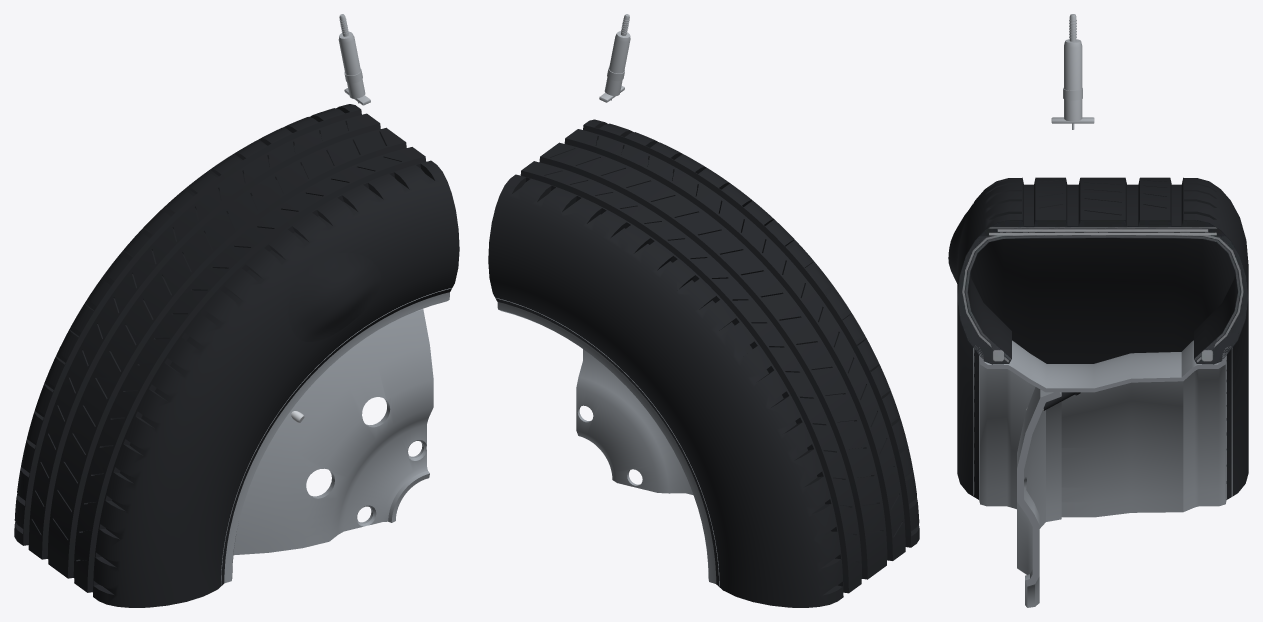
The model's file is tire-section-v1.glb.
3 renders of one model, left to right at view 1: azimuth 30°, elevation 25°; view 2: azimuth 150°, elevation 25°; view 3: azimuth 270°, elevation 25°, orthographic. The views are drawn at different scales.
Parts seen in each view (by area): view 1: TireSection, Wheel, Sidewall_Bulge, Gauge_Barrel; view 2: TireSection, Wheel, Gauge_Barrel; view 3: TireSection, Wheel, TireSection_CutFace, Gauge_Barrel, Sidewall_Bulge.
Part boxes in pixels (left/top/right/bottom): TireSection: left=14, top=104, right=459, bottom=607; Wheel: left=221, top=287, right=452, bottom=586; Sidewall_Bulge: left=288, top=252, right=381, bottom=341; Gauge_Barrel: left=338, top=31, right=370, bottom=105; TireSection: left=488, top=119, right=919, bottom=607; Wheel: left=495, top=297, right=719, bottom=586; Gauge_Barrel: left=599, top=31, right=630, bottom=102; TireSection: left=957, top=177, right=1248, bottom=499; Wheel: left=973, top=340, right=1232, bottom=607; TireSection_CutFace: left=957, top=220, right=1248, bottom=364; Gauge_Barrel: left=1051, top=39, right=1094, bottom=123; Sidewall_Bulge: left=948, top=204, right=972, bottom=283.
Bounding box in the file's own units: 0.316 × 0.4464 × 0.2112.
Materials: 6 (1 with a texture image).
